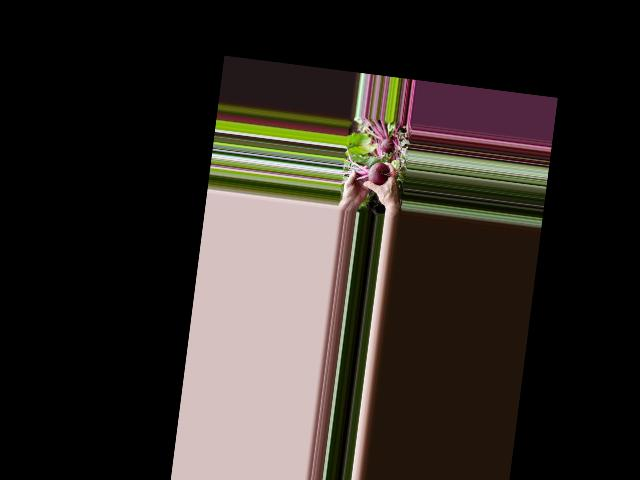beet: (341, 145, 392, 187)
